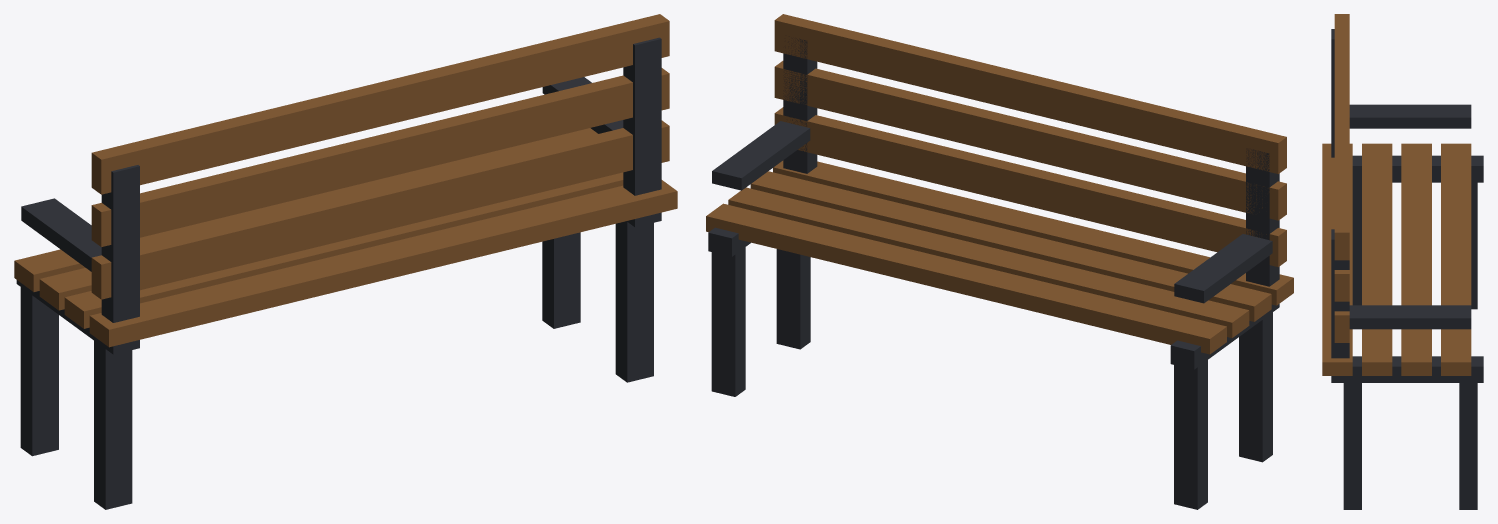
Rendered from Bench.glb.
3 views of the same model, side by side, from view 1: azimuth 30°, elevation 25°; view 2: azimuth 150°, elevation 25°; view 3: azimuth 270°, elevation 25° (orthographic). The views are drawn at different scales.
Visible parts, largest first — view 1: Bench; view 2: Bench; view 3: Bench.
Part boxes in pixels (x1=…): Bench: x1=14, y1=14, x2=677, y2=509; Bench: x1=706, y1=14, x2=1293, y2=509; Bench: x1=1322, y1=14, x2=1483, y2=509.
Size of the model in its own units: 1.7 by 1.02 by 0.53.
